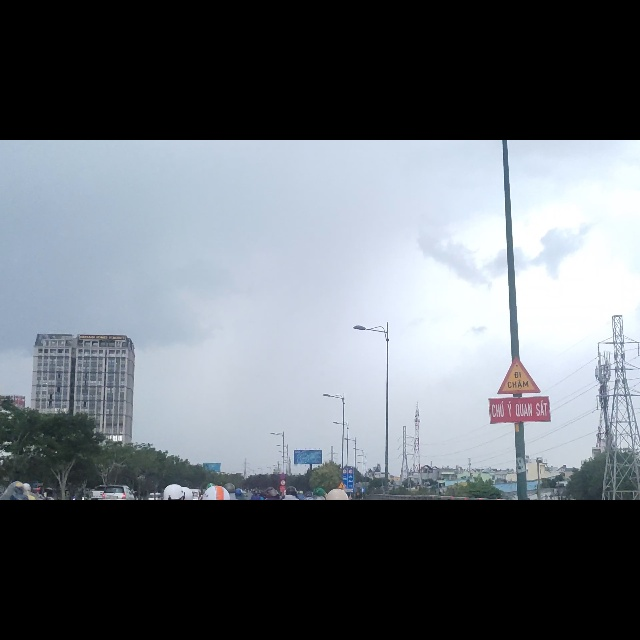bien_cam: (496, 382, 542, 454)
